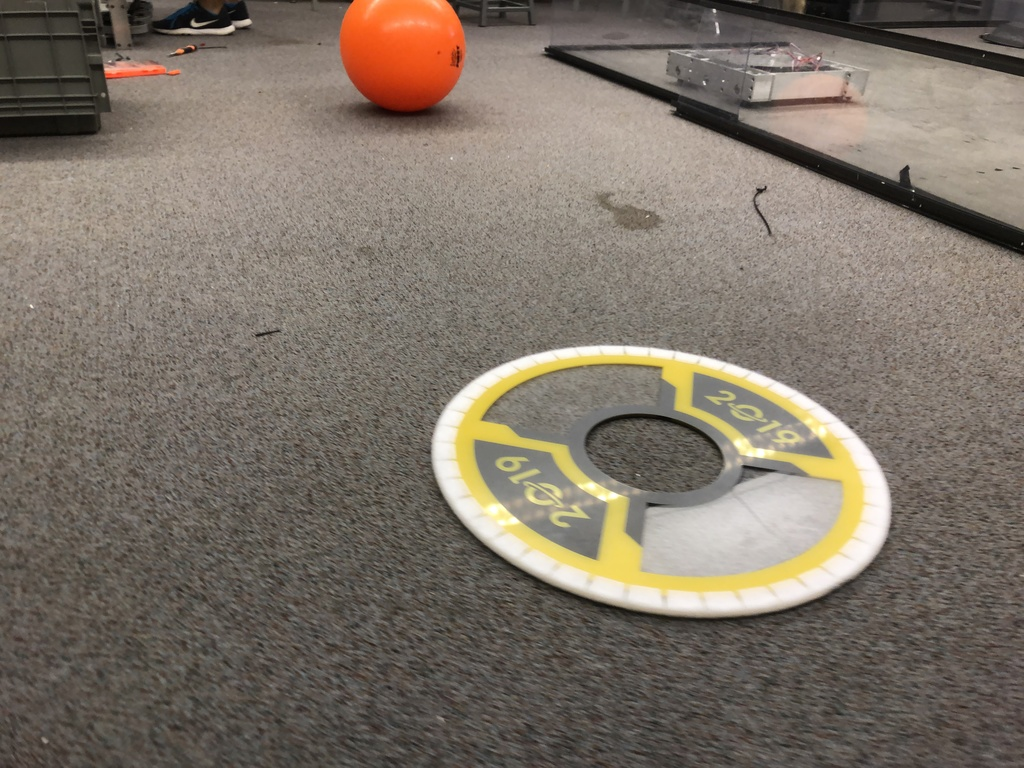hatch_panel: (420, 332, 915, 626)
